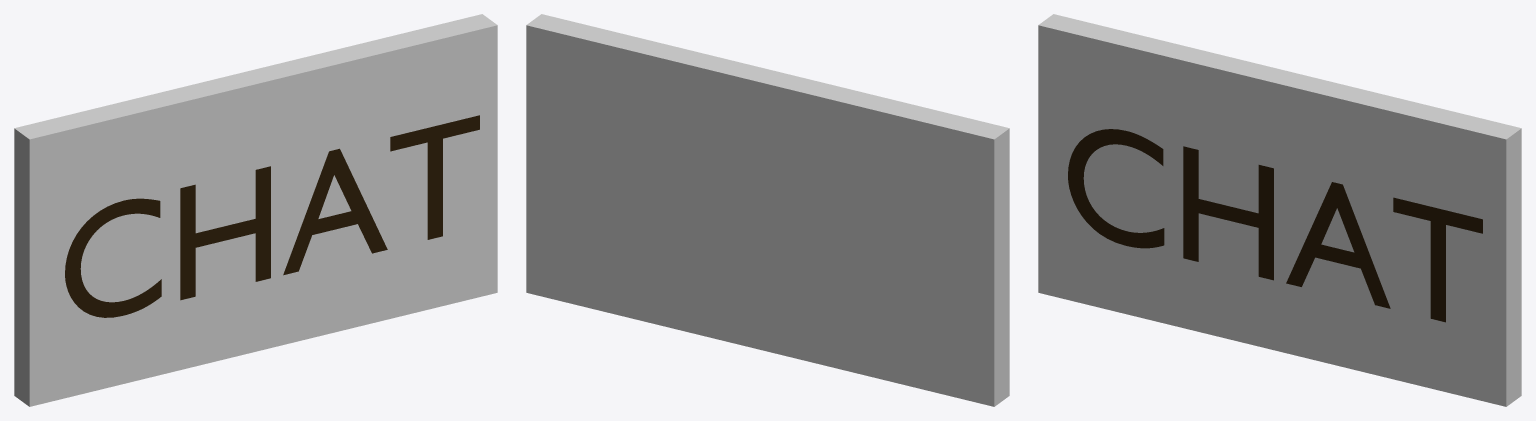
The model's file is menu_chat.gltf.
The picture shows the model from 3 angles, left to right: view 1: azimuth 30°, elevation 25°; view 2: azimuth 150°, elevation 25°; view 3: azimuth 330°, elevation 25°; orthographic projection.
Visible parts, largest first — view 1: Cube.006, Text.003; view 2: Cube.006; view 3: Cube.006, Text.003.
Boxes of the visible parts, x1,y1,x2,y2 form: Cube.006: (14, 14, 497, 406); Text.003: (65, 115, 479, 317); Cube.006: (526, 14, 1009, 406); Cube.006: (1038, 14, 1521, 406); Text.003: (1068, 129, 1482, 322).
Bounding box in the file's own units: 0.2811 × 0.1535 × 0.0189.
